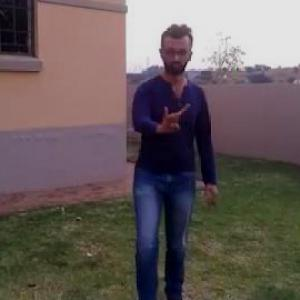takeoff-hand: (154, 91, 192, 138)
